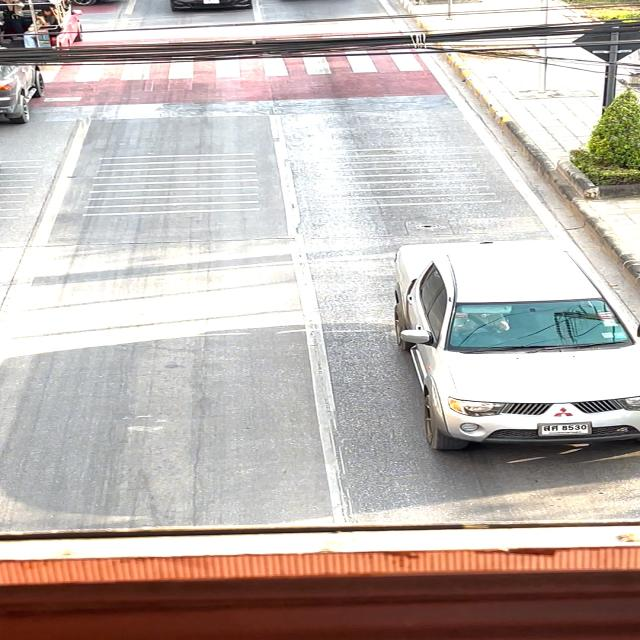car: (368, 227, 640, 474)
